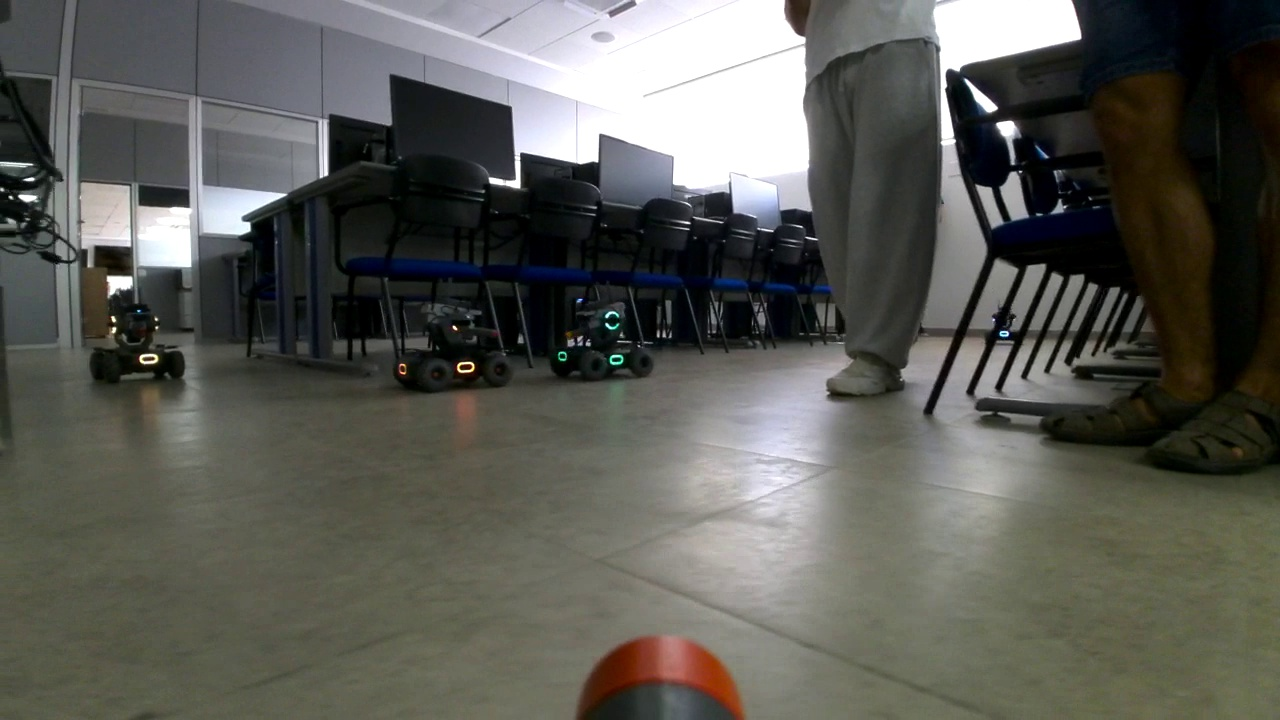robot: (397, 278, 511, 388), (552, 281, 651, 378), (88, 288, 185, 380), (984, 298, 1023, 343)
